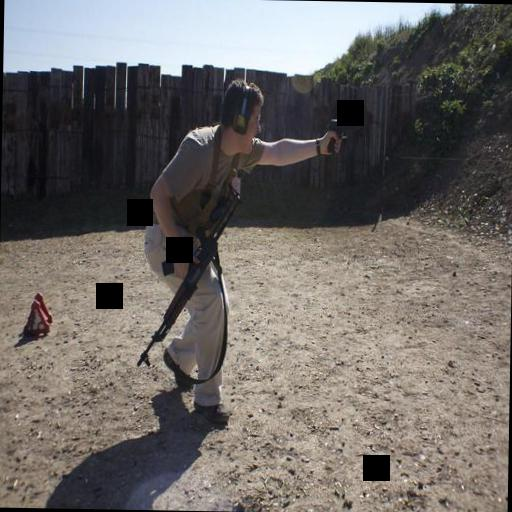Handgun: (320, 109, 362, 157)
